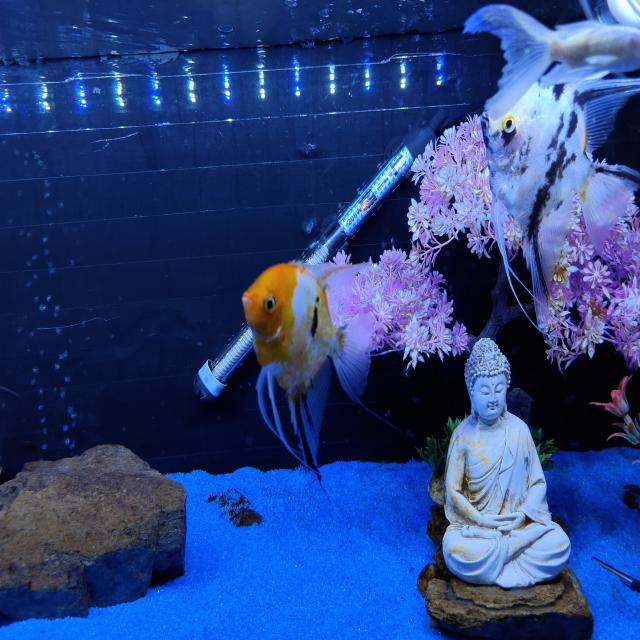Fish: (482, 79, 639, 331), (242, 263, 374, 480), (465, 5, 639, 118)
